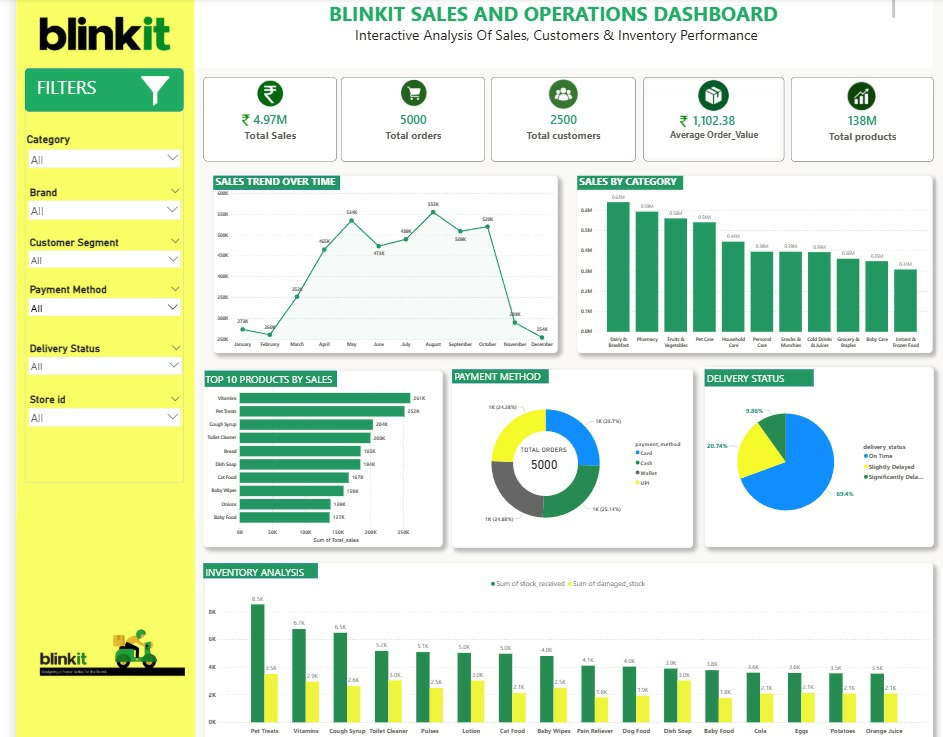

The page's visual inventory and layout, read from the dashboard file:
{"tool":"powerbi","page":{"name":"Page 1","canvas":[2500,2100],"ordinal":0},"visuals":[{"type":"cardVisual","fields":{"Data":["Sum(blinkit_order_items.Total_sales)"]},"box":[500,267.5,355,225],"z":0},{"type":"cardVisual","fields":{"Data":["blinkit_customers.Total orders"]},"box":[865.7,267.1,384.3,225.7],"z":1000},{"type":"cardVisual","fields":{"Data":["blinkit_customers.Total customers"]},"box":[1267.1,267.1,385.7,225.7],"z":2000},{"type":"cardVisual","fields":{"Data":["blinkit_customers.Total products"]},"box":[2065.7,267.1,380,225.7],"z":3000},{"type":"lineChart","title":"SALES TREND OVER TIME","fields":{"Y":["Sum(blinkit_order_items.Total_sales)"],"Category":["blinkit_orders.order_date.Variation.Date Hierarchy.Year","blinkit_orders.order_date.Variation.Date Hierarchy.Month"]},"box":[527.5,530,917.5,472.5],"z":4000},{"type":"pieChart","title":" PAYMENT METHOD","fields":{"Category":["blinkit_orders.delivery_status"],"Y":["blinkit_customers.Total orders"]},"box":[1835,1040,610,480],"z":5000},{"type":"donutChart","title":"DELIVERY STATUS","fields":{"Category":["blinkit_orders.payment_method"],"Y":["blinkit_customers.Total orders"]},"box":[1162.5,1045,642.5,475],"z":6000},{"type":"barChart","title":"TOP 10 PRODUCTS BY SALES","fields":{"Y":["Sum(blinkit_order_items.Total_sales)"],"Category":["blinkit_products.product_name"]},"box":[500,1050,637.5,470],"z":7000},{"type":"clusteredColumnChart","title":"INVENTORY ANALYSIS","fields":{"Y":["Sum(blinkit_inventory.stock_received)","Sum(blinkit_inventory.damaged_stock)"],"Category":["blinkit_products.product_name"]},"box":[502.5,1562.5,1942.5,500],"z":8000},{"type":"cardVisual","fields":{"Data":["Avg(blinkit_customers.avg_order_value)"]},"box":[1672.5,267.5,375,225],"z":9000},{"type":"shape","box":[0,0,477.5,2960],"z":10000},{"type":"slicer","fields":{"Values":["blinkit_orders.store_id"]},"box":[24.1,1106.9,425.3,111.6],"z":11000},{"type":"slicer","fields":{"Values":["blinkit_orders.payment_method"]},"box":[24.1,814.3,425.3,156.8],"z":12000},{"type":"slicer","fields":{"Values":["blinkit_products.brand"]},"box":[24.1,551.9,425.3,111.6],"z":13000},{"type":"slicer","fields":{"Values":["blinkit_orders.delivery_status"]},"box":[24.1,971.2,428.3,147.8],"z":14000},{"type":"slicer","title":"Category","fields":{"Values":["blinkit_products.category"]},"box":[24.1,416.2,425.3,114.6],"z":15000},{"type":"slicer","fields":{"Values":["blinkit_customers.customer_segment"]},"box":[24.1,687.7,425.3,126.7],"z":16000},{"type":"columnChart","title":"SALES BY CATEGORY","fields":{"Y":["Sum(blinkit_order_items.Total_sales)"],"Category":["blinkit_products.category"]},"box":[1497.5,530,947.5,472.5],"z":17000},{"type":"shape","box":[477.5,0,1967.5,242.5],"z":18000},{"type":"shape","box":[1497.5,530,282.5,37.5],"z":19000},{"type":"textbox","box":[1497.5,520,480,75],"z":20000},{"type":"textbox","box":[0,1811,477,1801],"z":21000},{"type":"shape","box":[502.5,1050,352.5,42.5],"z":22000},{"type":"shape","box":[1835,1047.5,290,45],"z":23000},{"type":"shape","box":[527.5,530,337.5,37.5],"z":24000},{"type":"textbox","box":[1835,1047.5,395,60],"z":25000},{"type":"textbox","box":[527.5,520,447.5,60],"z":26000},{"type":"shape","box":[500,1562.5,305,40],"z":28000},{"type":"textbox","box":[500,1562.5,442.5,97.5],"z":29000},{"type":"textbox","box":[500,1050,730,122.5],"z":30000},{"type":"shape","box":[1161.7,1046.7,256.7,36.7],"z":31000},{"type":"textbox","box":[1162.5,1040,510,65],"z":32000},{"type":"image","box":[50,30,372.5,242.5],"z":33000},{"type":"shape","box":[24,242,424,1106],"z":34000},{"type":"shape","box":[0,1445,477.5,1107.5],"z":35000},{"type":"card","title":"TOTAL ORDERS","fields":{"Values":["blinkit_customers.Total orders"]},"box":[1340,1248.3,135,73.3],"z":36000},{"type":"image","box":[634.4,275.6,88.9,68.9],"z":37000},{"type":"image","box":[928.6,224.3,261.4,170],"z":38000},{"type":"image","box":[1327.1,112.9,265.7,395.7],"z":39000},{"type":"image","box":[1530,176.7,660,276.7],"z":40000},{"type":"image","box":[2112.9,220,284.3,195.7],"z":41000},{"type":"shape","box":[24,242,424,116],"z":42000},{"type":"textbox","box":[50,248,334,96],"z":43000},{"type":"textbox","box":[527.5,52.5,1822.5,70],"z":44000},{"type":"textbox","box":[530,122.5,1822.5,97.5],"z":45000},{"type":"image","box":[213.3,246.7,316.7,123.3],"z":46000},{"type":"image","box":[545,365,132.5,30],"z":47000},{"type":"image","box":[1712.5,370,135,30],"z":48000},{"type":"image","box":[0,1663.3,450,400],"z":48001}]}

Visuals, with their boxes on the page's 2500x2100 design canvas (x1, y1, x2, y2). These are canvas units, not pixel positions in the 943x737 screenshot, which may show the page scaled, cropped or inside an application window:
cardVisual - Sum(blinkit_order_items.Total_sales): (500, 268, 855, 492)
cardVisual - blinkit_customers.Total orders: (866, 267, 1250, 493)
cardVisual - blinkit_customers.Total customers: (1267, 267, 1653, 493)
cardVisual - blinkit_customers.Total products: (2066, 267, 2446, 493)
"SALES TREND OVER TIME" lineChart: (528, 530, 1445, 1002)
" PAYMENT METHOD" pieChart: (1835, 1040, 2445, 1520)
"DELIVERY STATUS" donutChart: (1162, 1045, 1805, 1520)
"TOP 10 PRODUCTS BY SALES" barChart: (500, 1050, 1138, 1520)
"INVENTORY ANALYSIS" clusteredColumnChart: (502, 1562, 2445, 2062)
cardVisual - Avg(blinkit_customers.avg_order_value): (1672, 268, 2048, 492)
shape: (0, 0, 478, 2960)
slicer - blinkit_orders.store_id: (24, 1107, 449, 1218)
slicer - blinkit_orders.payment_method: (24, 814, 449, 971)
slicer - blinkit_products.brand: (24, 552, 449, 664)
slicer - blinkit_orders.delivery_status: (24, 971, 452, 1119)
"Category" slicer: (24, 416, 449, 531)
slicer - blinkit_customers.customer_segment: (24, 688, 449, 814)
"SALES BY CATEGORY" columnChart: (1498, 530, 2445, 1002)
shape: (478, 0, 2445, 242)
shape: (1498, 530, 1780, 568)
textbox: (1498, 520, 1978, 595)
textbox: (0, 1811, 477, 3612)
shape: (502, 1050, 855, 1092)
shape: (1835, 1048, 2125, 1092)
shape: (528, 530, 865, 568)
textbox: (1835, 1048, 2230, 1108)
textbox: (528, 520, 975, 580)
shape: (500, 1562, 805, 1602)
textbox: (500, 1562, 942, 1660)
textbox: (500, 1050, 1230, 1172)
shape: (1162, 1047, 1418, 1083)
textbox: (1162, 1040, 1672, 1105)
image: (50, 30, 422, 272)
shape: (24, 242, 448, 1348)
shape: (0, 1445, 478, 2552)
"TOTAL ORDERS" card: (1340, 1248, 1475, 1322)
image: (634, 276, 723, 344)
image: (929, 224, 1190, 394)
image: (1327, 113, 1593, 509)
image: (1530, 177, 2190, 453)
image: (2113, 220, 2397, 416)
shape: (24, 242, 448, 358)
textbox: (50, 248, 384, 344)
textbox: (528, 52, 2350, 122)
textbox: (530, 122, 2352, 220)
image: (213, 247, 530, 370)
image: (545, 365, 678, 395)
image: (1712, 370, 1848, 400)
image: (0, 1663, 450, 2063)
